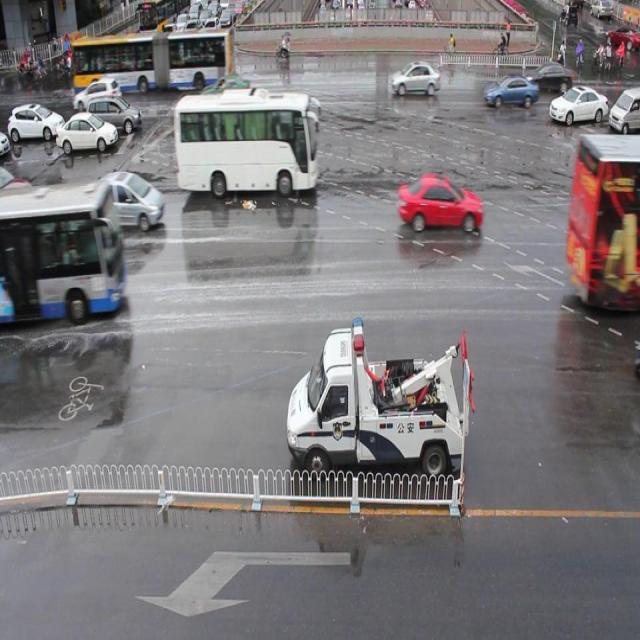car: (397, 172, 480, 235), (91, 171, 165, 233), (548, 82, 606, 123), (200, 74, 250, 112), (390, 60, 440, 98), (482, 75, 537, 108), (524, 60, 573, 96)
van: (0, 182, 124, 321), (176, 92, 317, 190), (569, 135, 640, 308)
